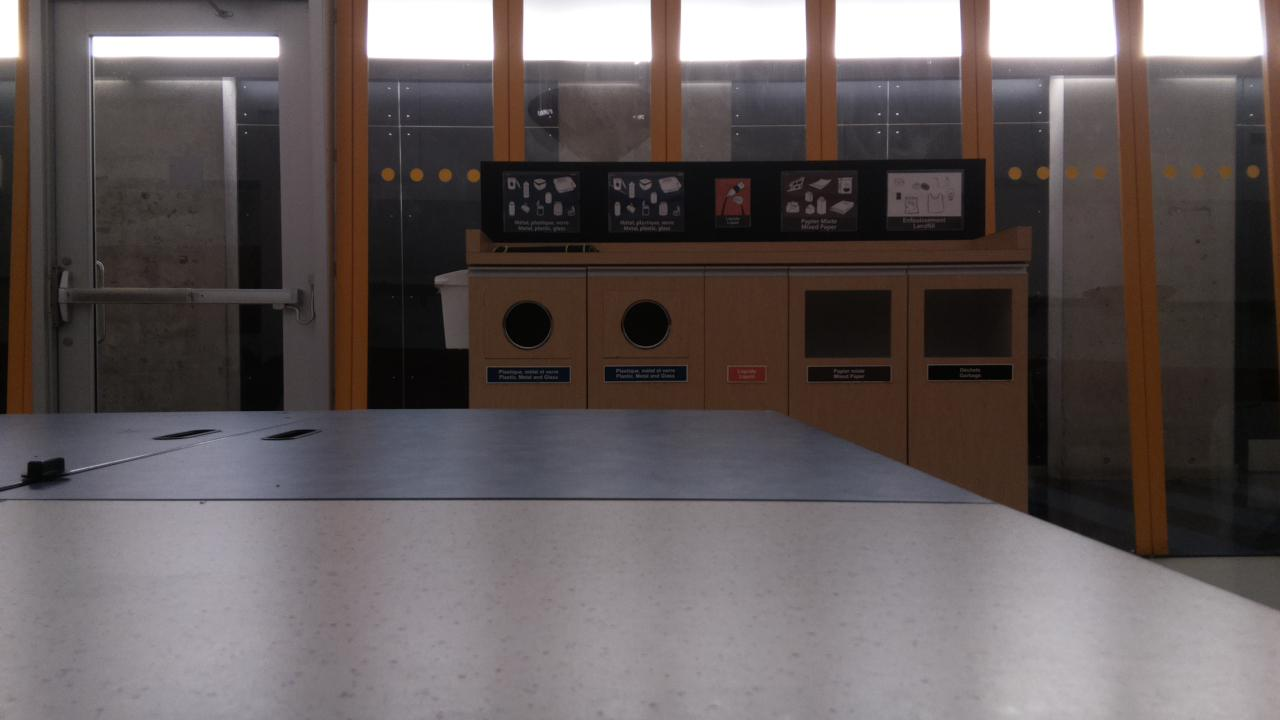door: (57, 2, 313, 411)
sign: (502, 169, 962, 231)
